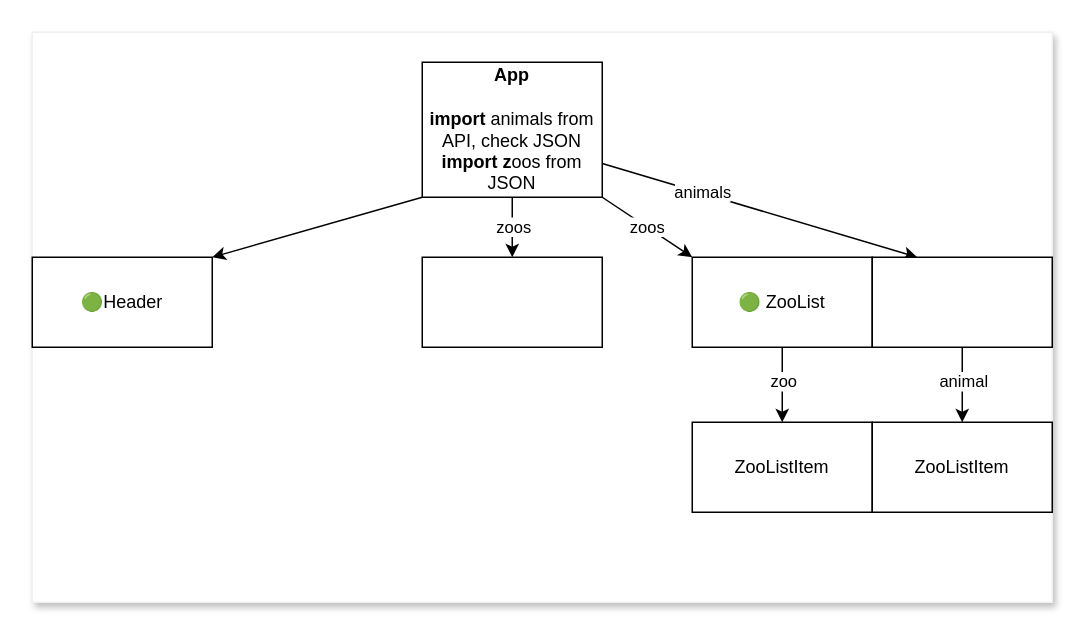
Some shapes in this 1088 by 639 pixel diagram are drawn without their labels. Here are the shapes that lost their labels. From the top down, the centre of each, then its label:
At [511,301]: "🟡 ZooForm".
At [961,301]: "🟢 AnimalList".
